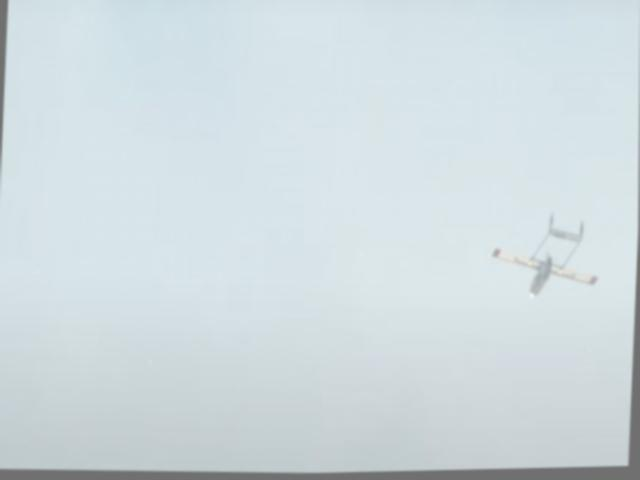iha: (481, 209, 604, 306)
